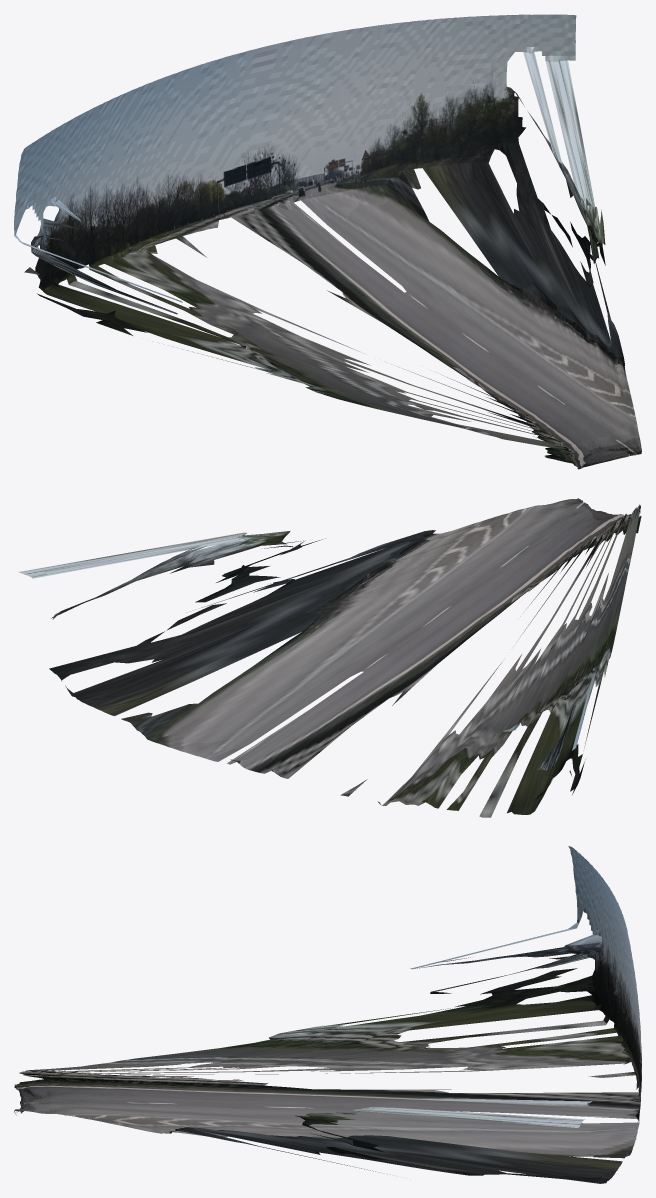
3 views of the same model, one above another, from view 1: azimuth 30°, elevation 25°; view 2: azimuth 150°, elevation 25°; view 3: azimuth 270°, elevation 25° (orthographic). The views are drawn at different scales.
Parts seen in each view (by area): view 1: defaultobject; view 2: defaultobject; view 3: defaultobject.
Part boxes in pixels (box(x1,y1,x2,y2)): defaultobject: box(14, 14, 641, 469); defaultobject: box(18, 498, 641, 817); defaultobject: box(14, 846, 641, 1183).
Bounding box in the file's own units: 41 × 12.44 × 44.63.
Materials: 1 (1 with a texture image).
